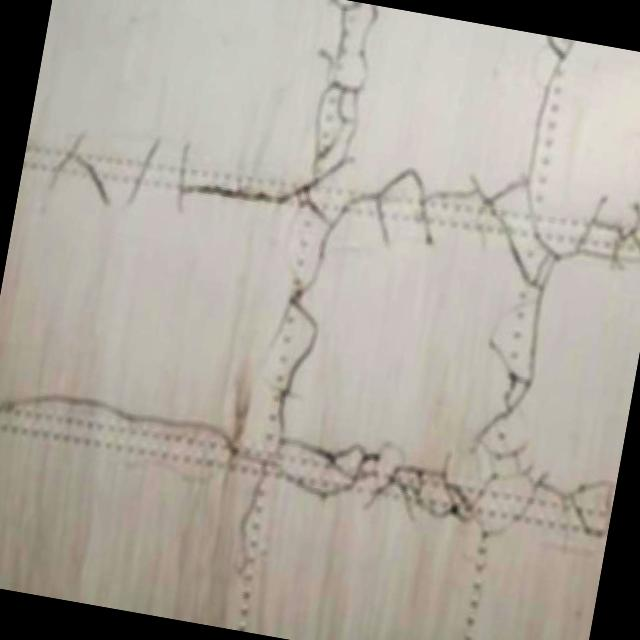crack: (36, 85, 640, 304), (0, 366, 617, 553)
